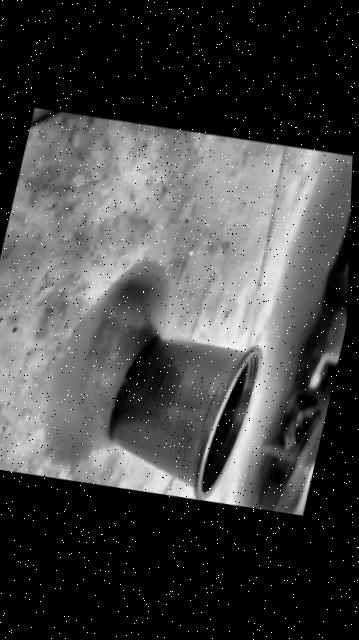pot: (93, 322, 265, 510)
